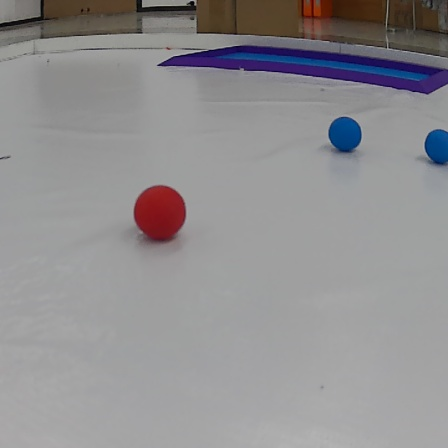blue: (326, 117, 368, 151), (425, 127, 448, 168)
blue_aim: (161, 39, 448, 93)
red: (132, 184, 186, 241)
